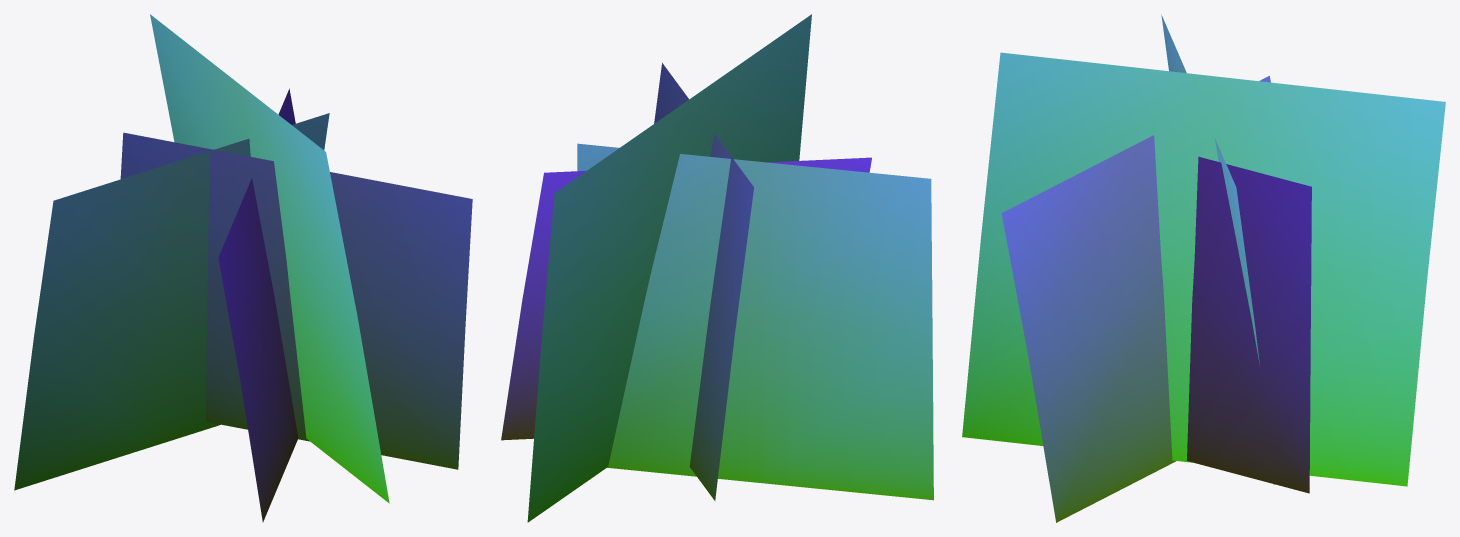
File: grass_tuft_b.glb
The picture shows the model from 3 angles, left to right: view 1: azimuth 30°, elevation 25°; view 2: azimuth 150°, elevation 25°; view 3: azimuth 270°, elevation 25°; orthographic projection. The views are drawn at different scales.
Parts seen in each view (by area): view 1: small_grass_tuft_b; view 2: small_grass_tuft_b; view 3: small_grass_tuft_b.
Boxes of the visible parts, <box> form: small_grass_tuft_b: <box>14,14,472,522</box>; small_grass_tuft_b: <box>501,14,933,522</box>; small_grass_tuft_b: <box>962,14,1445,522</box>.
Bounding box in the file's own units: 0.287 × 0.2765 × 0.3095.
